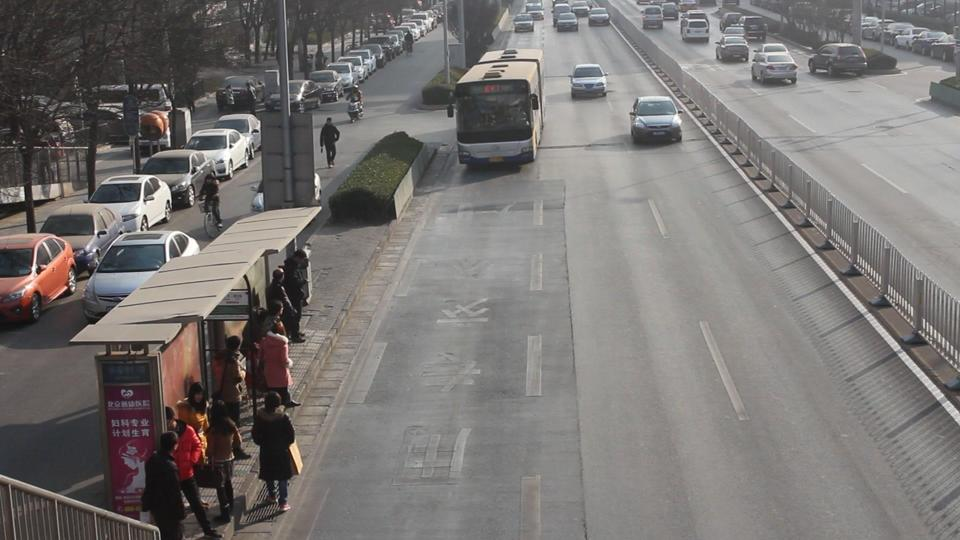bus: (450, 54, 545, 166), (680, 10, 711, 42)
car: (80, 230, 199, 322), (0, 232, 78, 324), (38, 203, 127, 274), (85, 174, 174, 231), (136, 149, 216, 208), (183, 127, 249, 180), (629, 95, 683, 144), (213, 113, 263, 156), (808, 43, 869, 76), (265, 80, 323, 113), (750, 52, 800, 86), (219, 75, 265, 109), (570, 63, 608, 99), (928, 72, 960, 110), (308, 69, 345, 101), (910, 30, 951, 57), (751, 43, 797, 65), (715, 36, 750, 63), (742, 16, 768, 42), (642, 5, 664, 30), (554, 11, 578, 32), (513, 14, 534, 32), (589, 8, 610, 25)
person: (251, 394, 301, 511), (140, 430, 189, 540), (253, 325, 302, 409), (320, 117, 341, 167), (346, 97, 364, 124)
